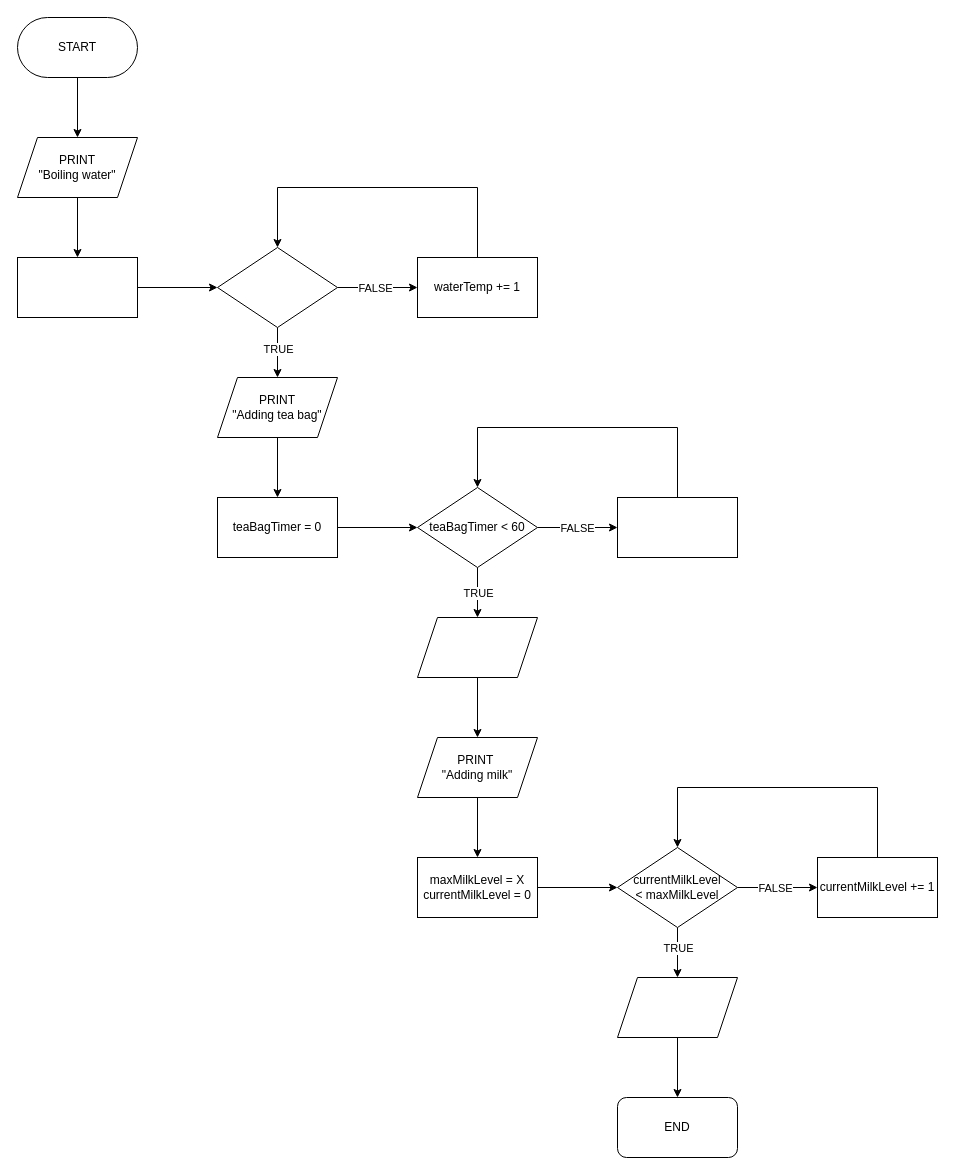
Image size: 955x1175. Some labels were removed from this diagram. The centre of each missing label's shape, as x and y in pixels:
PRINT "Removing tea bag": point 477,647
PRINT "Tea complete": point 677,1007
teaBagTimer += 1: point 677,527
waterTemp < 100: point 277,287
waterTemp = 20 (Average room temp water): point 77,287
